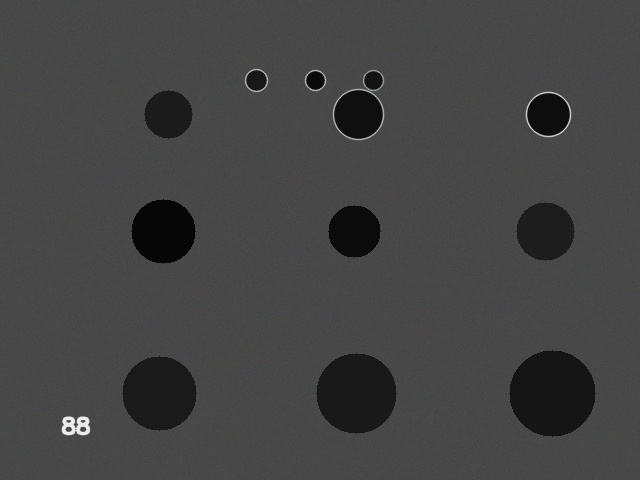hole: (509, 350, 595, 436), (316, 353, 396, 433), (122, 356, 196, 430), (131, 199, 195, 263), (516, 202, 574, 260), (328, 205, 380, 257), (333, 89, 383, 139), (144, 90, 192, 138), (526, 92, 570, 136), (245, 69, 267, 91), (305, 70, 325, 90), (363, 70, 383, 90)
